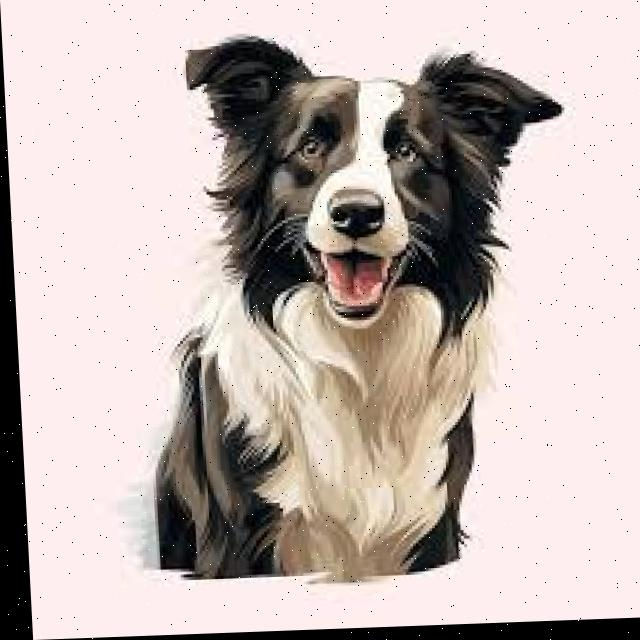BORDER_COLLIE: (123, 20, 584, 606)
